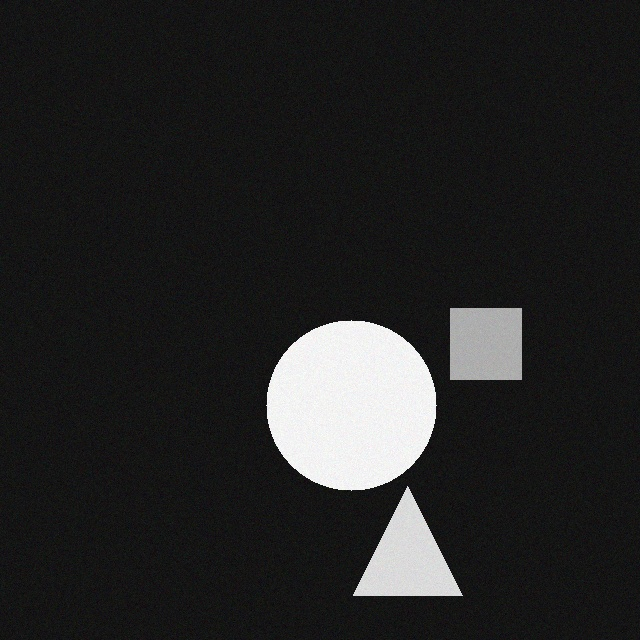circle: (268, 327, 438, 497)
square: (452, 315, 523, 386)
triangle: (355, 493, 464, 602)
